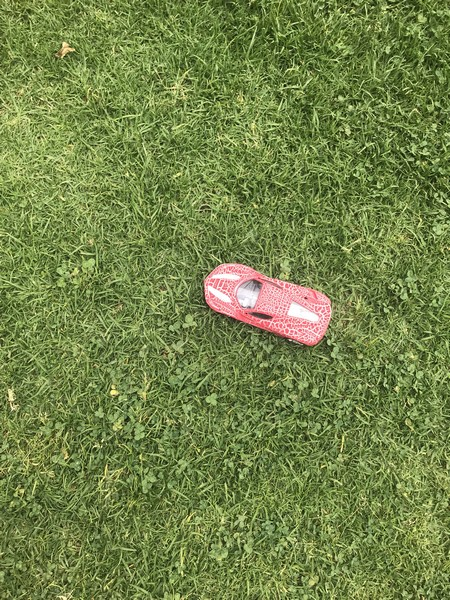RC: (201, 260, 332, 351)
